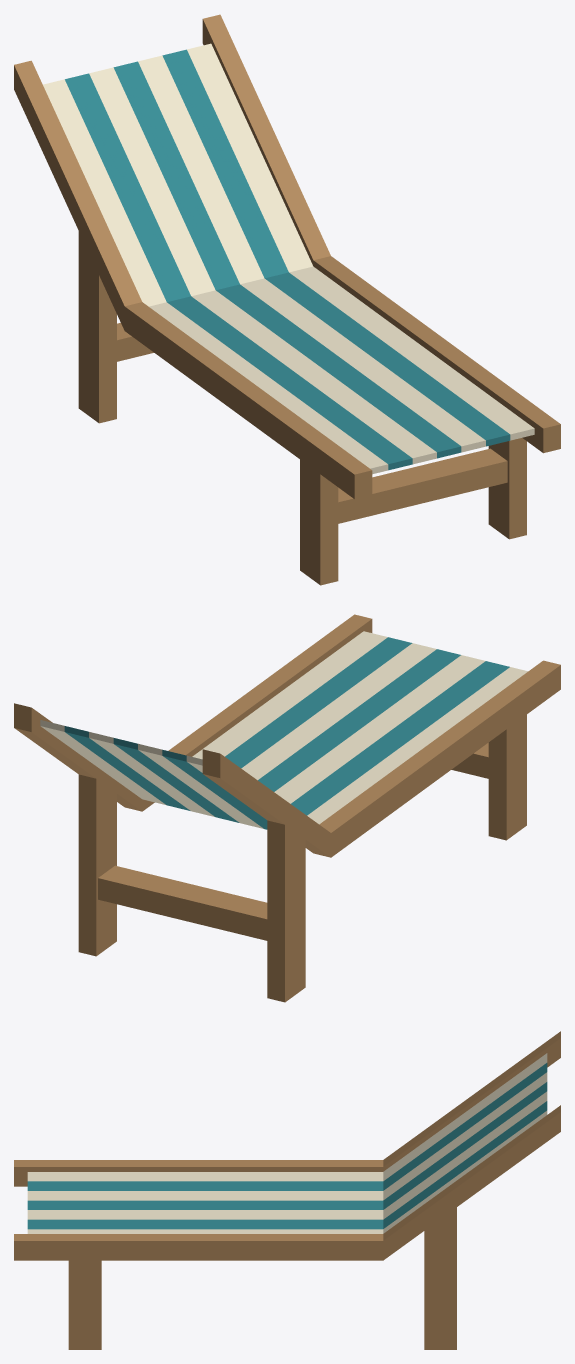
The picture shows the model from 3 angles, top to bottom: view 1: azimuth 30°, elevation 25°; view 2: azimuth 150°, elevation 25°; view 3: azimuth 270°, elevation 25°; orthographic projection. The views are drawn at different scales.
Visible parts, largest first — view 1: WholeContinuousStripedSling, LeftIntegralGroundedSideFrame, RightIntegralGroundedSideFrame, FrontFullCrossStretcher, RearFullCrossStretcher; view 2: WholeContinuousStripedSling, LeftIntegralGroundedSideFrame, RightIntegralGroundedSideFrame, RearFullCrossStretcher, FrontFullCrossStretcher; view 3: WholeContinuousStripedSling, RightIntegralGroundedSideFrame, LeftIntegralGroundedSideFrame.
Boxes of the visible parts, bbox=[...] form: WholeContinuousStripedSling: bbox=[43, 43, 534, 474]; LeftIntegralGroundedSideFrame: bbox=[14, 60, 372, 585]; RightIntegralGroundedSideFrame: bbox=[202, 14, 560, 539]; FrontFullCrossStretcher: bbox=[338, 448, 507, 523]; RearFullCrossStretcher: bbox=[117, 322, 153, 361]; WholeContinuousStripedSling: bbox=[40, 631, 527, 829]; LeftIntegralGroundedSideFrame: bbox=[202, 660, 560, 1002]; RightIntegralGroundedSideFrame: bbox=[14, 614, 372, 956]; RearFullCrossStretcher: bbox=[98, 865, 267, 940]; FrontFullCrossStretcher: bbox=[451, 742, 488, 778]; WholeContinuousStripedSling: bbox=[27, 1053, 547, 1233]; RightIntegralGroundedSideFrame: bbox=[14, 1105, 560, 1349]; LeftIntegralGroundedSideFrame: bbox=[14, 1031, 560, 1186].
Size of the model in its own units: 0.7 by 0.96 by 2.
